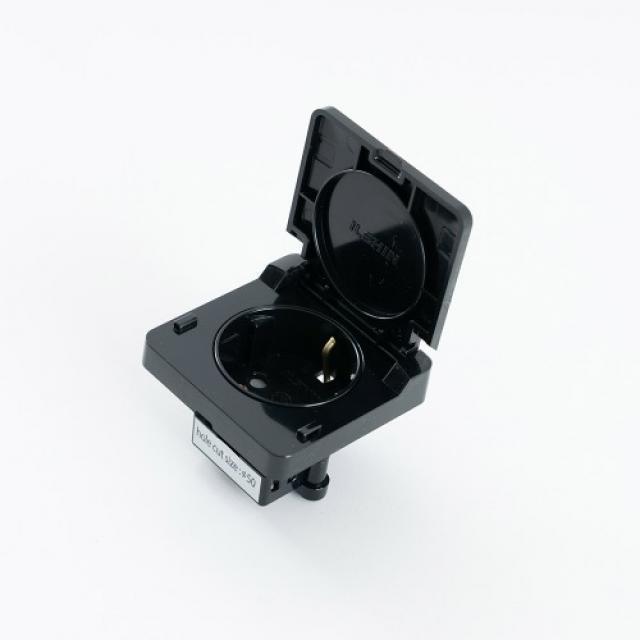typeb: (145, 114, 552, 530)
